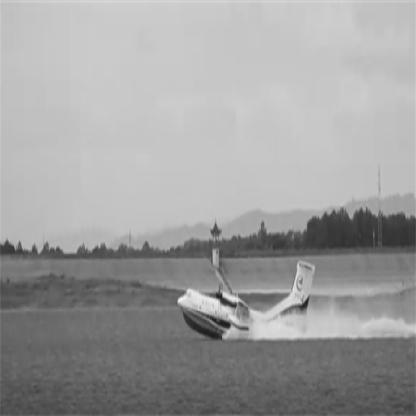AG600: (178, 260, 317, 341)
